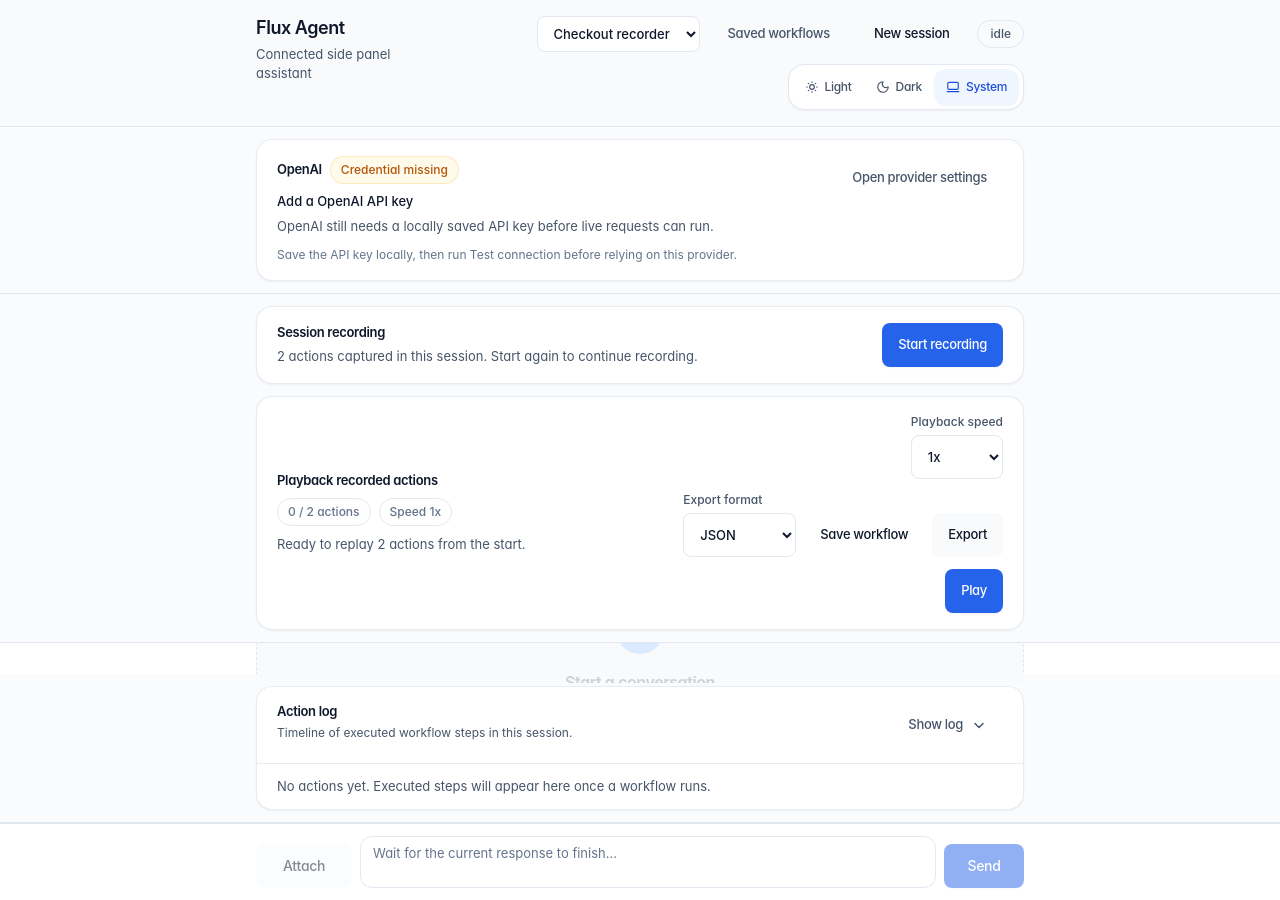
Side panel App (U-15 integration) › opens the save workflow modal and persists a saved workflow from recorded actions
Click the button "Save workflow" at (864, 535), box [804,513,924,557]
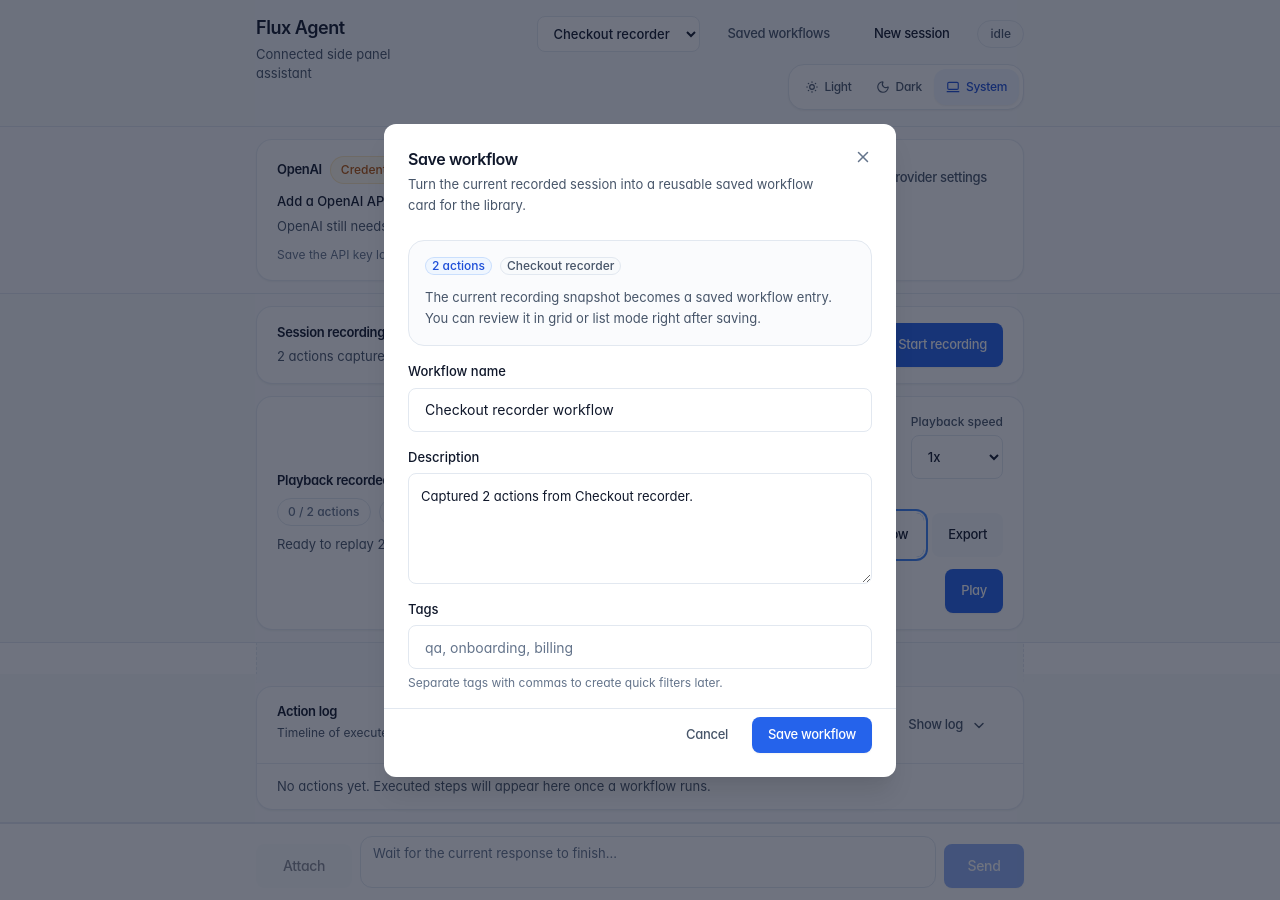
Check: the field labelled "Workflow name" holds "Checkout recorder workflow"
Replace the text in the field labelled "Workflow name" with "Checkout happy path" at (640, 410), box [408,388,872,432]
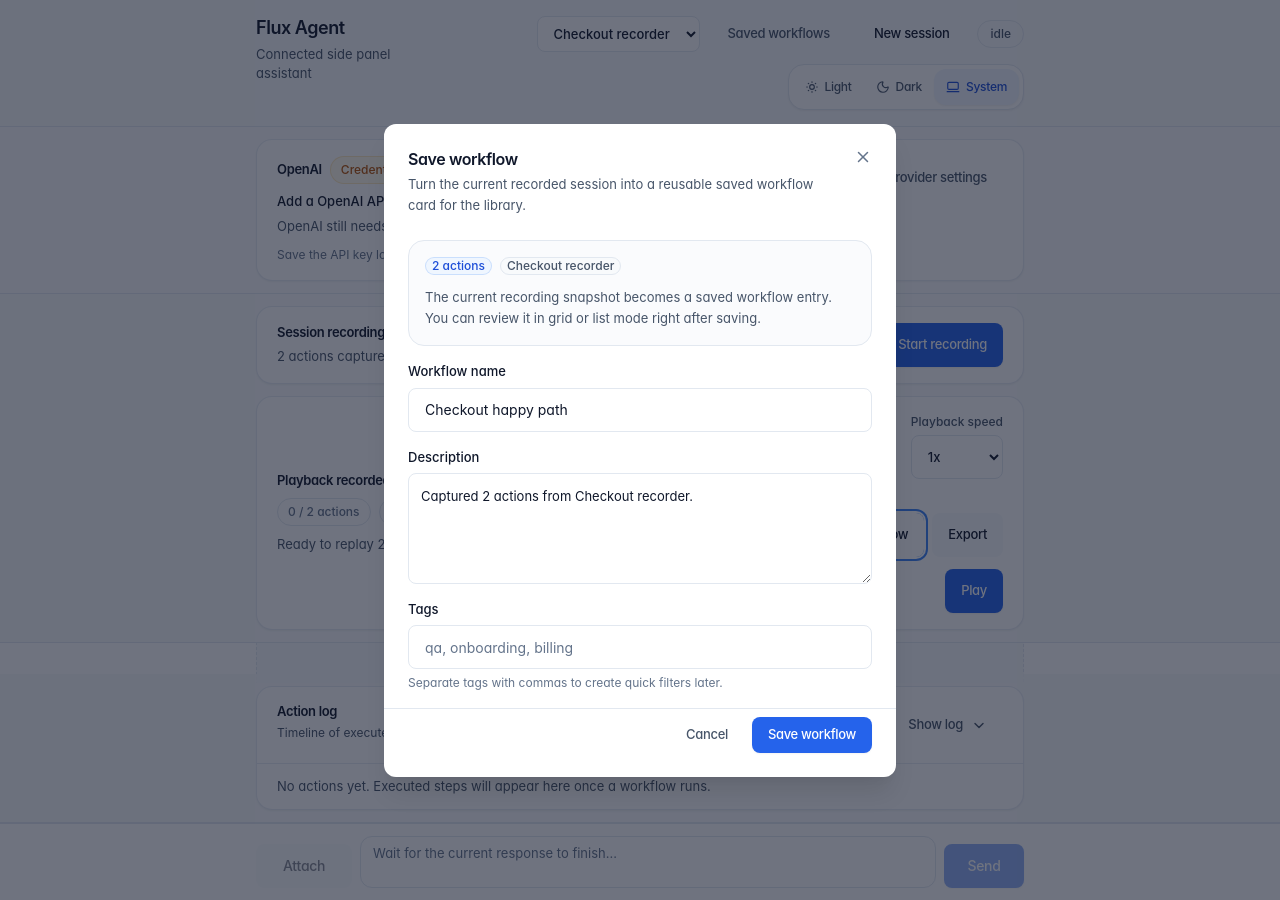
Replace the text in the text box labelled "Description" with "Covers cart review through confirmation." at (640, 528), box [408,473,872,584]
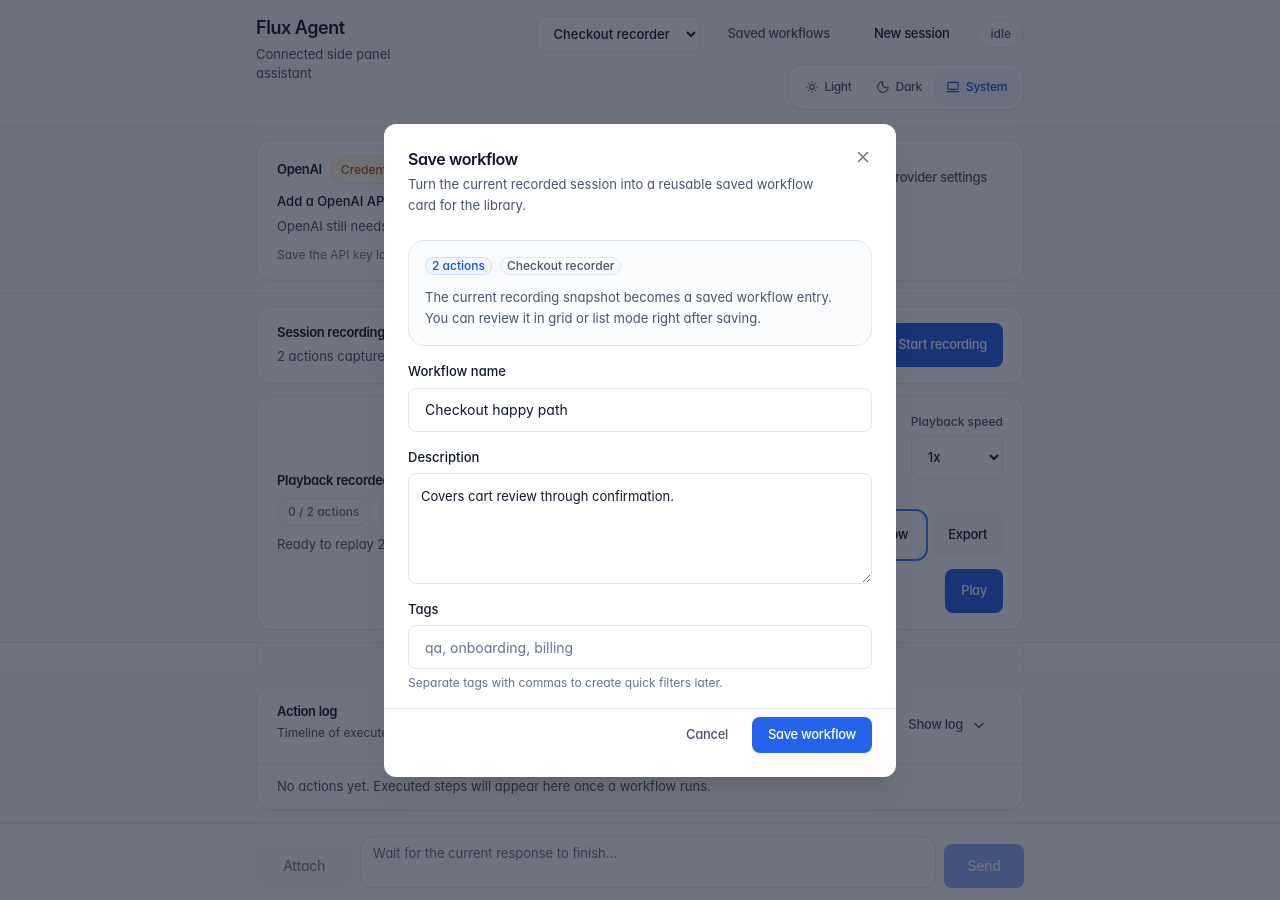
Type "qa, smoke" into the field labelled "Tags" at (640, 647), box [408,625,872,669]
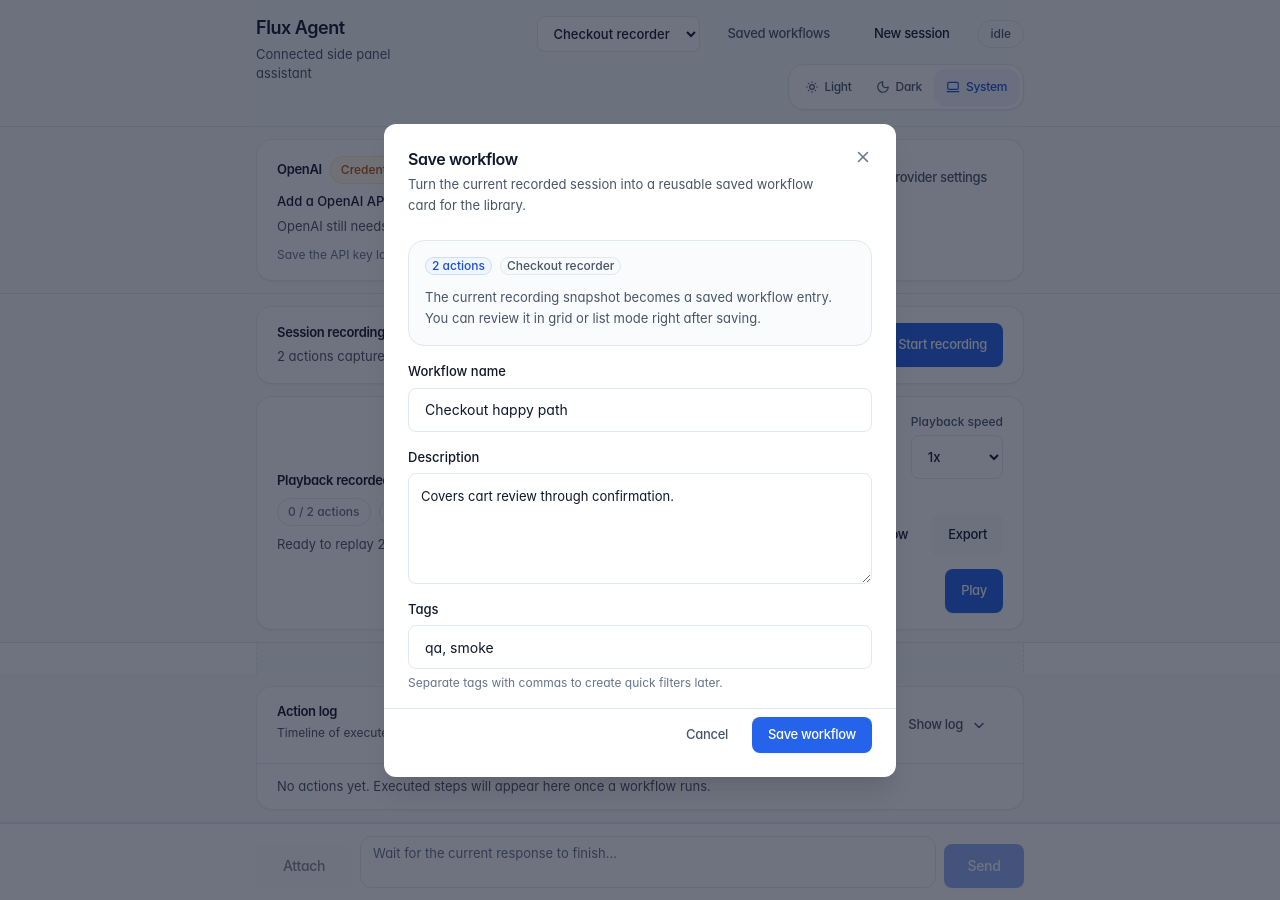
Click the button "Save workflow" at (812, 734), box [752,716,872,752]
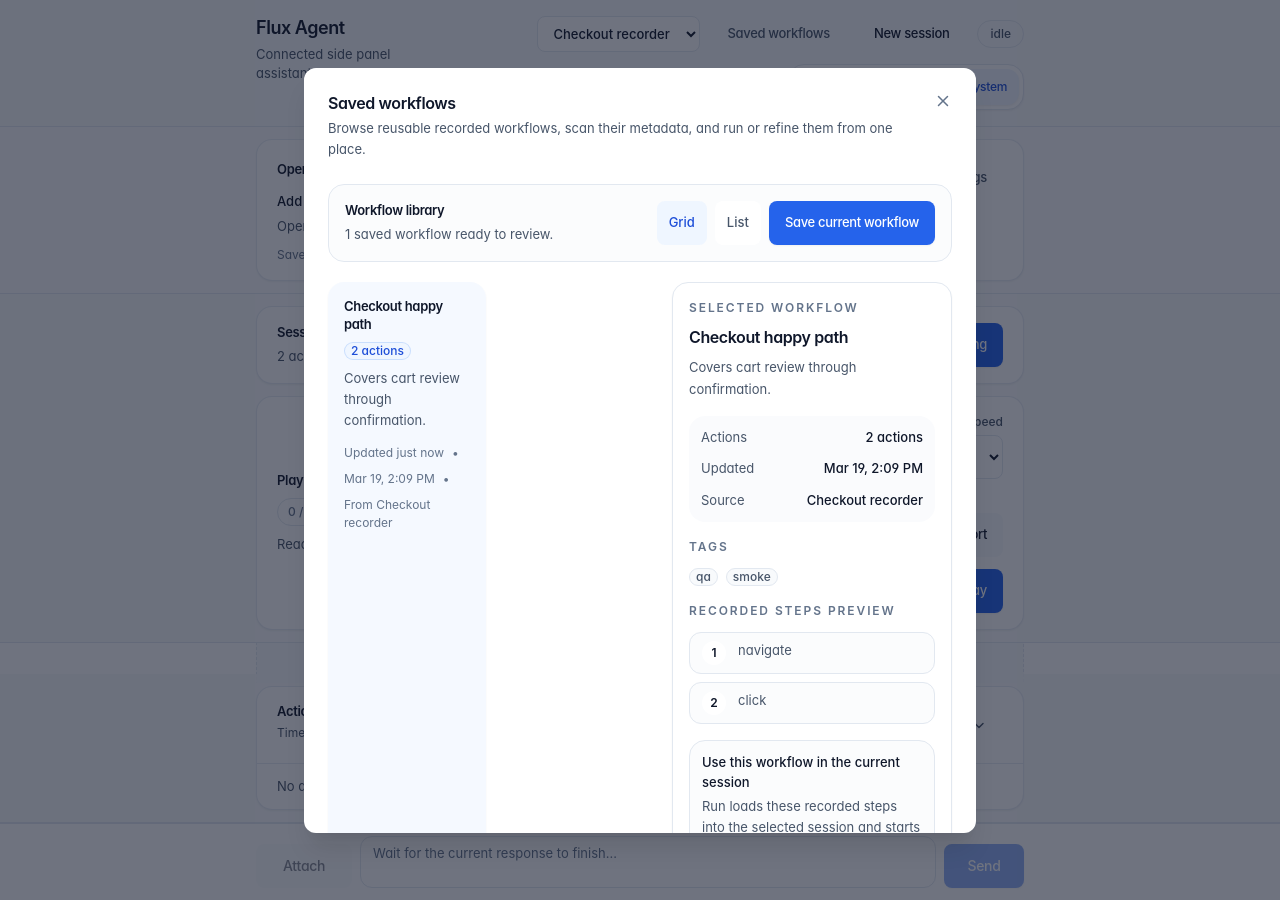
Check: the number of headings "Checkout happy path" is 2, box [344,298,443,332]; [689,327,848,347]
Check: the text "Covers cart review through confirmation." is shown 2 times, box [344,368,470,432]; [689,359,856,396]
Check: the text "smoke" is shown 2 times
